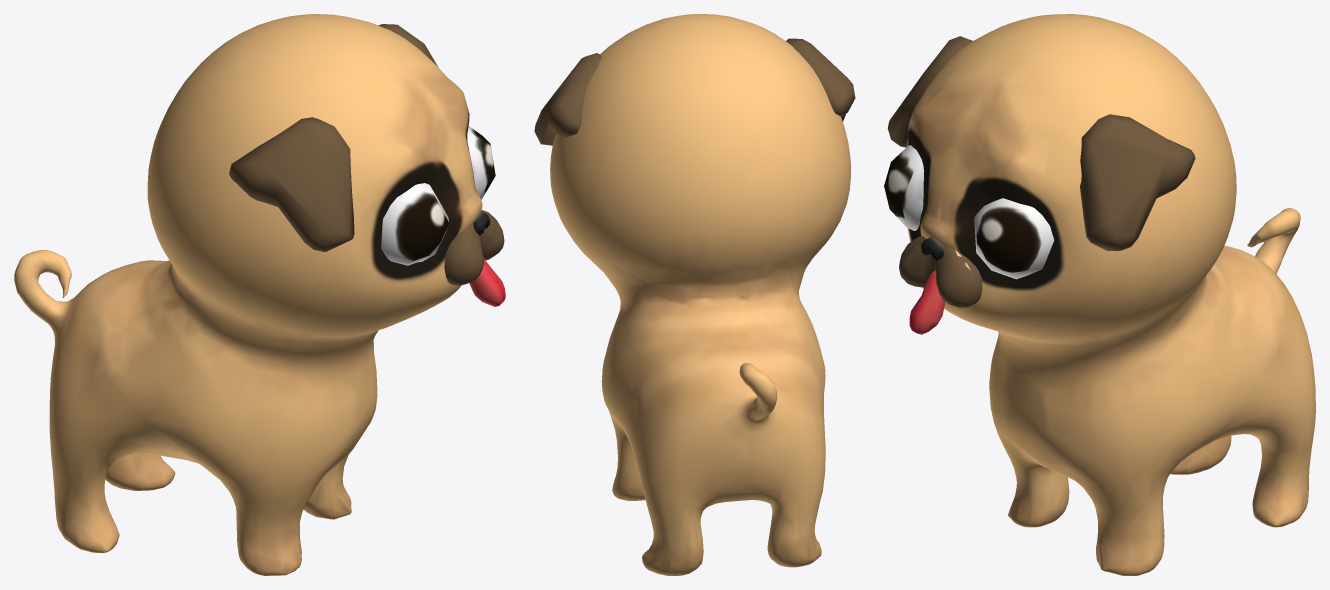
The model's file is pug.glb.
3 views of the same model, side by side, from view 1: azimuth 30°, elevation 25°; view 2: azimuth 150°, elevation 25°; view 3: azimuth 270°, elevation 25° (orthographic). The views are drawn at different scales.
Visible parts, largest first — view 1: NurbsPath, Cube.003, Sphere.001, Cube.001, Cube.002; view 2: NurbsPath, Cube.003; view 3: NurbsPath, Cube.003, Sphere.001, Cube.001, Cube.002.
Part boxes in pixels (x1,y1,x2,y2): NurbsPath: (14, 14, 482, 575); Cube.003: (229, 24, 437, 251); Sphere.001: (381, 126, 495, 265); Cube.001: (444, 210, 504, 285); Cube.002: (469, 257, 505, 306); NurbsPath: (550, 14, 851, 575); Cube.003: (534, 38, 855, 145); NurbsPath: (907, 14, 1315, 575); Cube.003: (887, 36, 1195, 251); Sphere.001: (884, 145, 1054, 279); Cube.001: (899, 236, 982, 307); Cube.002: (909, 270, 945, 334).
Bounding box in the file's own units: 1564 × 2162 × 1619.
4 materials, 4 textured.
